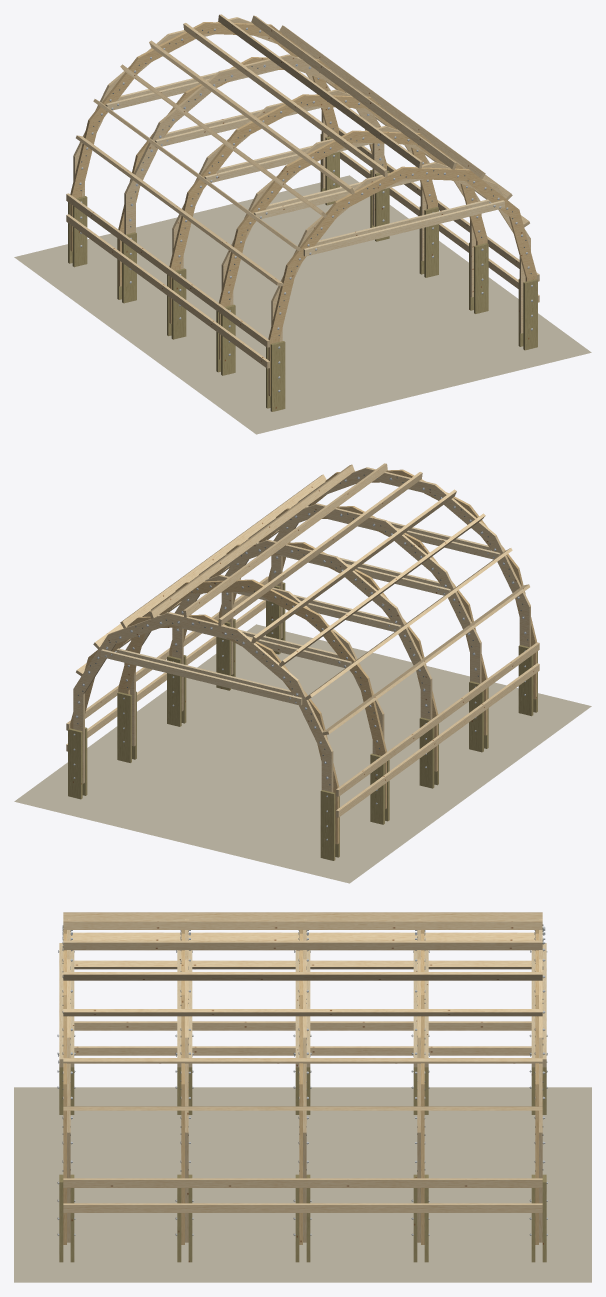
File: frame-baked.glb
3 renders of one model, top to bottom at view 1: azimuth 30°, elevation 25°; view 2: azimuth 150°, elevation 25°; view 3: azimuth 270°, elevation 25°, orthographic. The views are drawn at different scales.
Parts seen in each view (by area): view 1: lightmapped, greenhouse; view 2: lightmapped, greenhouse; view 3: lightmapped, greenhouse.
Part boxes in pixels (x1=…): lightmapped: x1=14, y1=14, x2=591, y2=434; greenhouse: x1=79, y1=27, x2=532, y2=391; lightmapped: x1=14, y1=463, x2=591, y2=883; greenhouse: x1=73, y1=474, x2=528, y2=840; lightmapped: x1=14, y1=912, x2=591, y2=1282; greenhouse: x1=57, y1=924, x2=547, y2=1235.
Size of the model in its own units: 4.7 by 2.85 by 5.88.
Materials: 8 (7 with a texture image).
